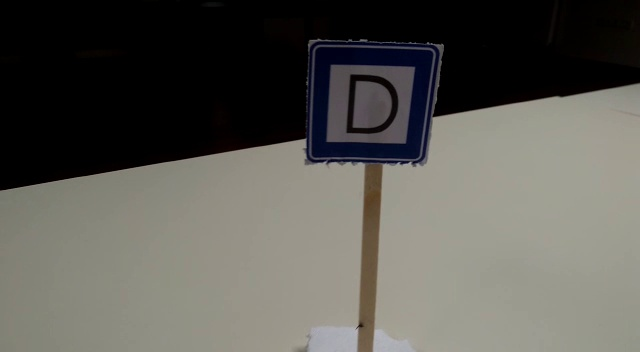durak: (307, 42, 444, 163)
